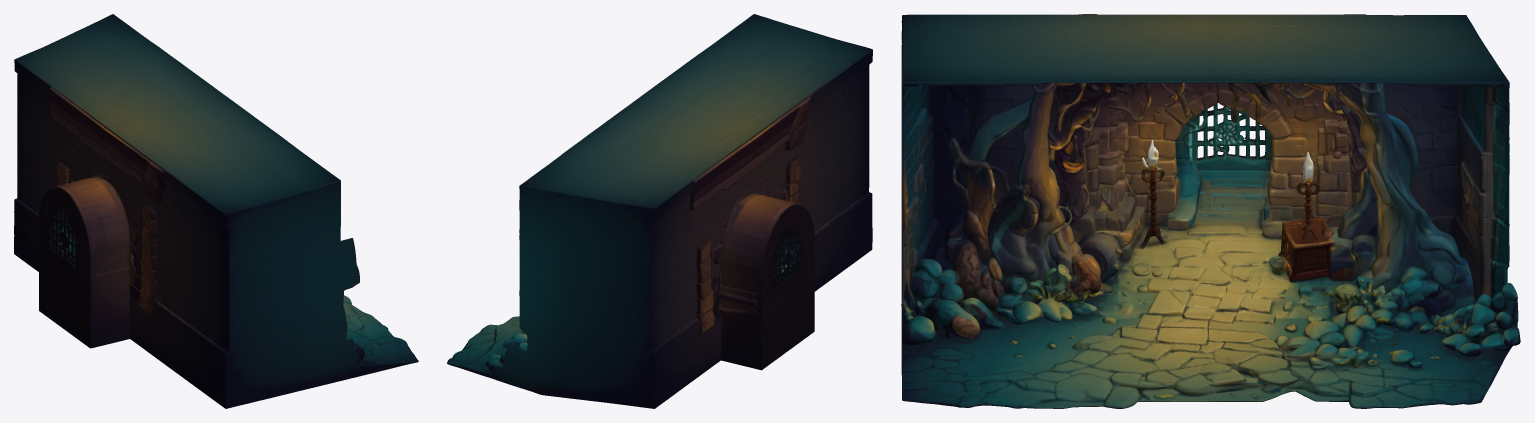
Rendered from cenario_3d_dungeon.draco.glb.
The picture shows the model from 3 angles, left to right: view 1: azimuth 30°, elevation 25°; view 2: azimuth 150°, elevation 25°; view 3: azimuth 270°, elevation 25°; orthographic projection. The views are drawn at different scales.
Visible parts, largest first — view 1: tripo_node_686c9fdf-ebd8-40d0-9e0e-c532d8012c71; view 2: tripo_node_686c9fdf-ebd8-40d0-9e0e-c532d8012c71; view 3: tripo_node_686c9fdf-ebd8-40d0-9e0e-c532d8012c71.
Part boxes in pixels (x1,y1,x2,y2): tripo_node_686c9fdf-ebd8-40d0-9e0e-c532d8012c71: [14, 14, 418, 408]; tripo_node_686c9fdf-ebd8-40d0-9e0e-c532d8012c71: [447, 14, 872, 408]; tripo_node_686c9fdf-ebd8-40d0-9e0e-c532d8012c71: [901, 14, 1520, 408].
Bounding box in the file's own units: 0.6111 × 0.4797 × 1.
Materials: 1 (1 with a texture image).
